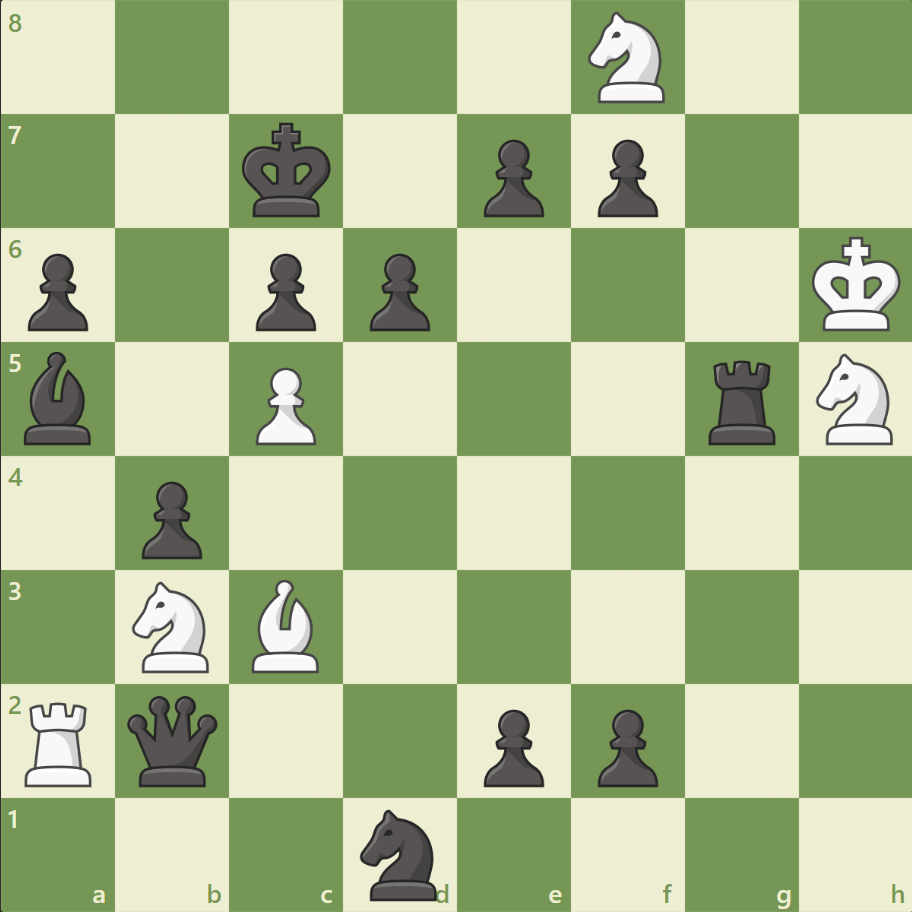B: (244, 574, 328, 676)
K: (806, 231, 906, 339)
N: (124, 575, 222, 677), (579, 7, 676, 110), (806, 348, 903, 450)
P: (247, 359, 322, 450)
R: (19, 693, 102, 790)
b: (17, 347, 101, 449)
k: (238, 117, 338, 225)
n: (351, 802, 449, 904)
p: (474, 132, 549, 223), (20, 246, 95, 337), (247, 246, 322, 337), (133, 473, 208, 564), (474, 700, 549, 791), (588, 132, 662, 223), (361, 246, 435, 337), (588, 700, 662, 791)
q: (124, 690, 223, 789)
r: (700, 352, 783, 449)
